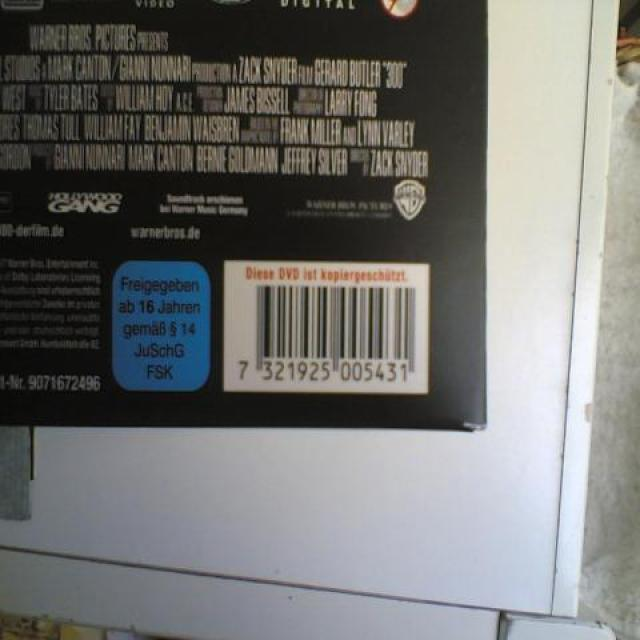Barcode: (225, 259, 430, 392)
